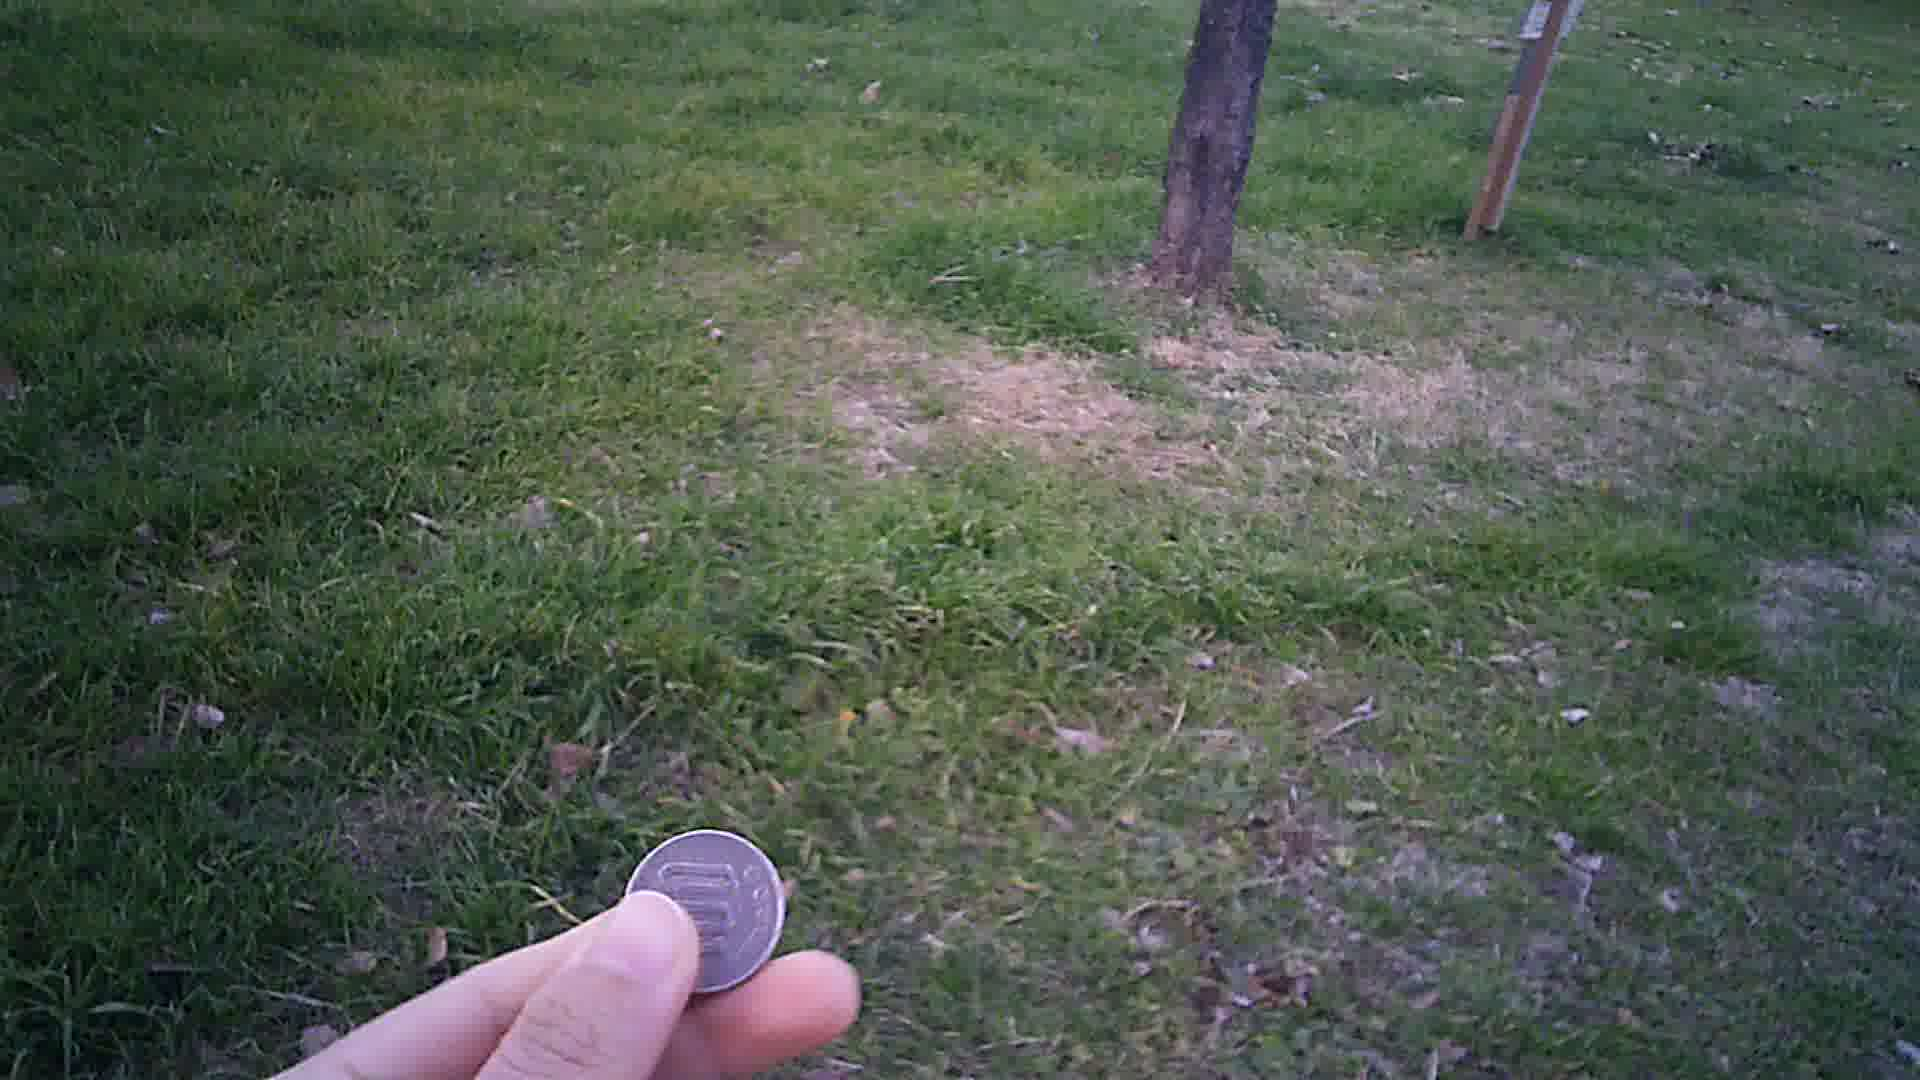100 Yen: (621, 825, 787, 998)
